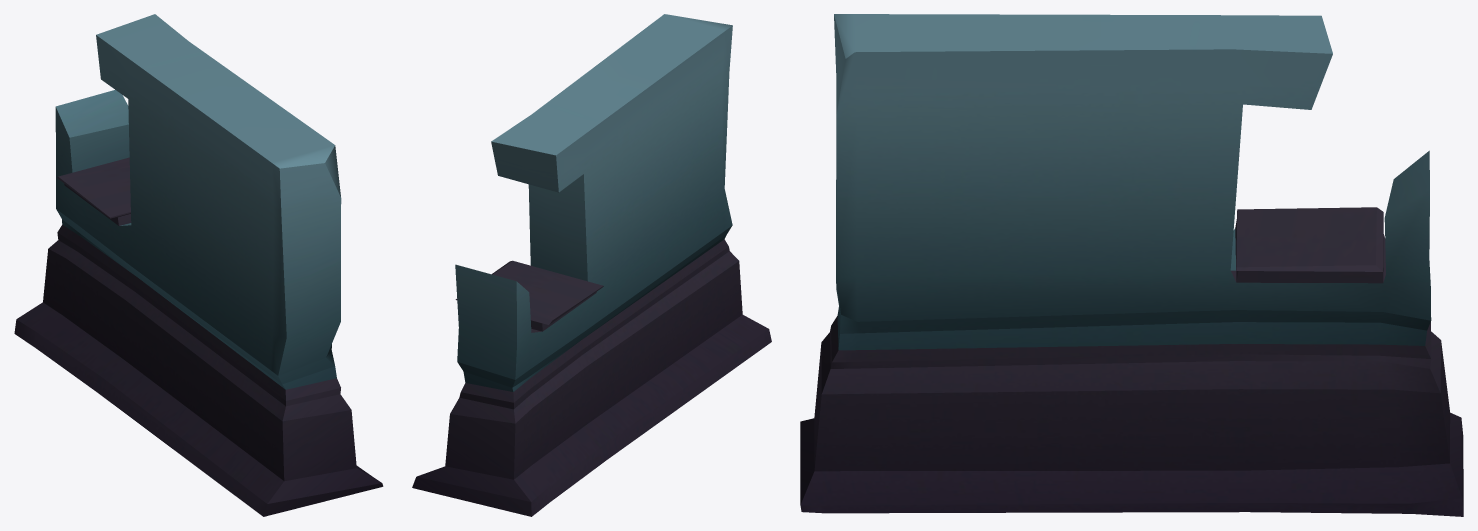
Rendered from Broken_wall.fbx.
3 views of the same model, side by side, from view 1: azimuth 30°, elevation 25°; view 2: azimuth 150°, elevation 25°; view 3: azimuth 270°, elevation 25° (orthographic). The views are drawn at different scales.
Visible parts, largest first — view 1: Broken_wall; view 2: Broken_wall; view 3: Broken_wall.
Boxes of the visible parts, bbox=[...] form: Broken_wall: bbox=[14, 14, 383, 516]; Broken_wall: bbox=[412, 14, 771, 516]; Broken_wall: bbox=[800, 14, 1463, 516].
Bounding box in the file's own units: 7.04 × 17.94 × 24.33.
